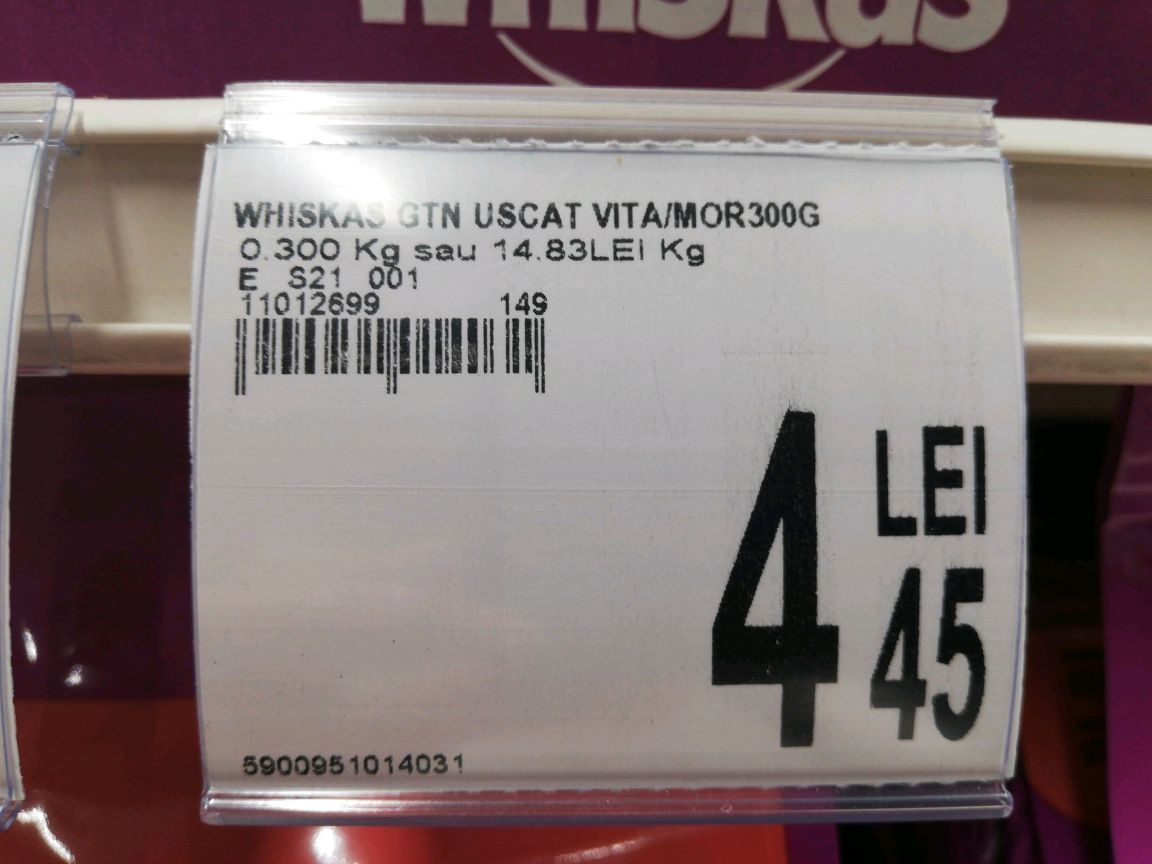price_bani: (859, 564, 999, 752)
price_lei: (689, 395, 853, 760)
price_tag: (181, 134, 1039, 803)
product_id: (234, 744, 482, 787)
product_name: (217, 191, 835, 233)
